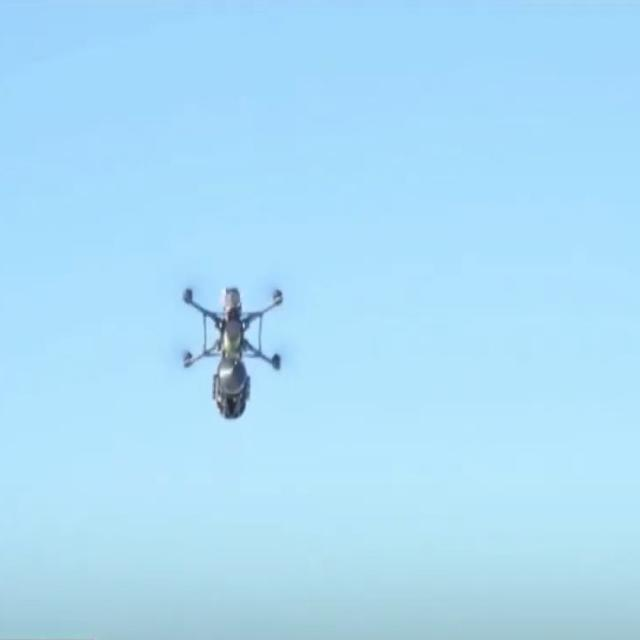drone: (170, 278, 298, 426)
